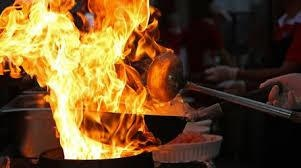fire: (3, 0, 181, 159)
